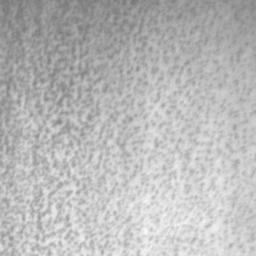Pitted surface: (0, 0, 256, 256), (5, 19, 41, 45), (229, 233, 255, 253)
